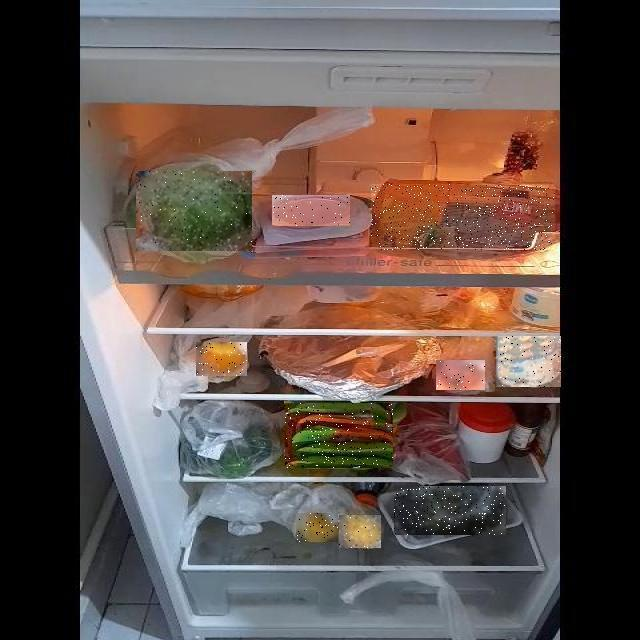Bread: (371, 184, 555, 250)
Broccoli: (394, 486, 506, 535)
Lemon: (196, 342, 247, 376), (339, 515, 381, 548), (296, 513, 338, 542)
Lettuce: (136, 171, 252, 251)
Meat: (285, 403, 393, 468)
Sausages: (272, 195, 350, 226)
Tomato Paste: (436, 360, 485, 390)
Yoghurt: (496, 336, 561, 387)
